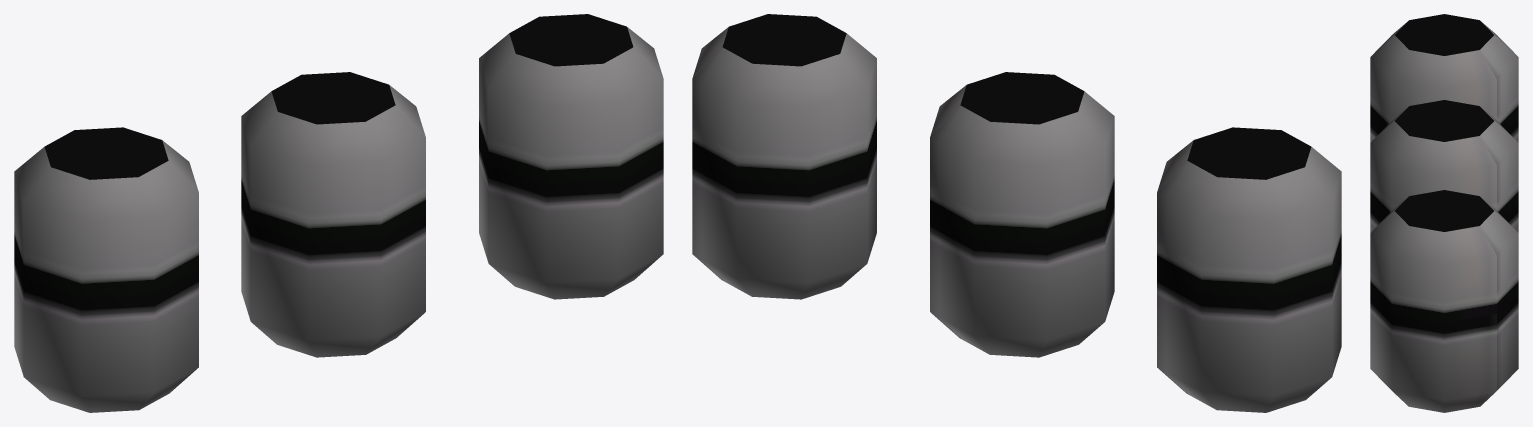
Rendered from 00_03_outside_barrels.DAE.
3 renders of one model, left to right at view 1: azimuth 30°, elevation 25°; view 2: azimuth 150°, elevation 25°; view 3: azimuth 270°, elevation 25°, orthographic. The views are drawn at different scales.
Visible parts, largest first — view 1: barrels; view 2: barrels; view 3: barrels.
Boxes of the visible parts, <box> form: barrels: <box>14,14,663,412</box>; barrels: <box>692,14,1341,412</box>; barrels: <box>1370,14,1518,412</box>.
Size of the model in its own units: 0.9675 by 0.3413 by 0.2541.
